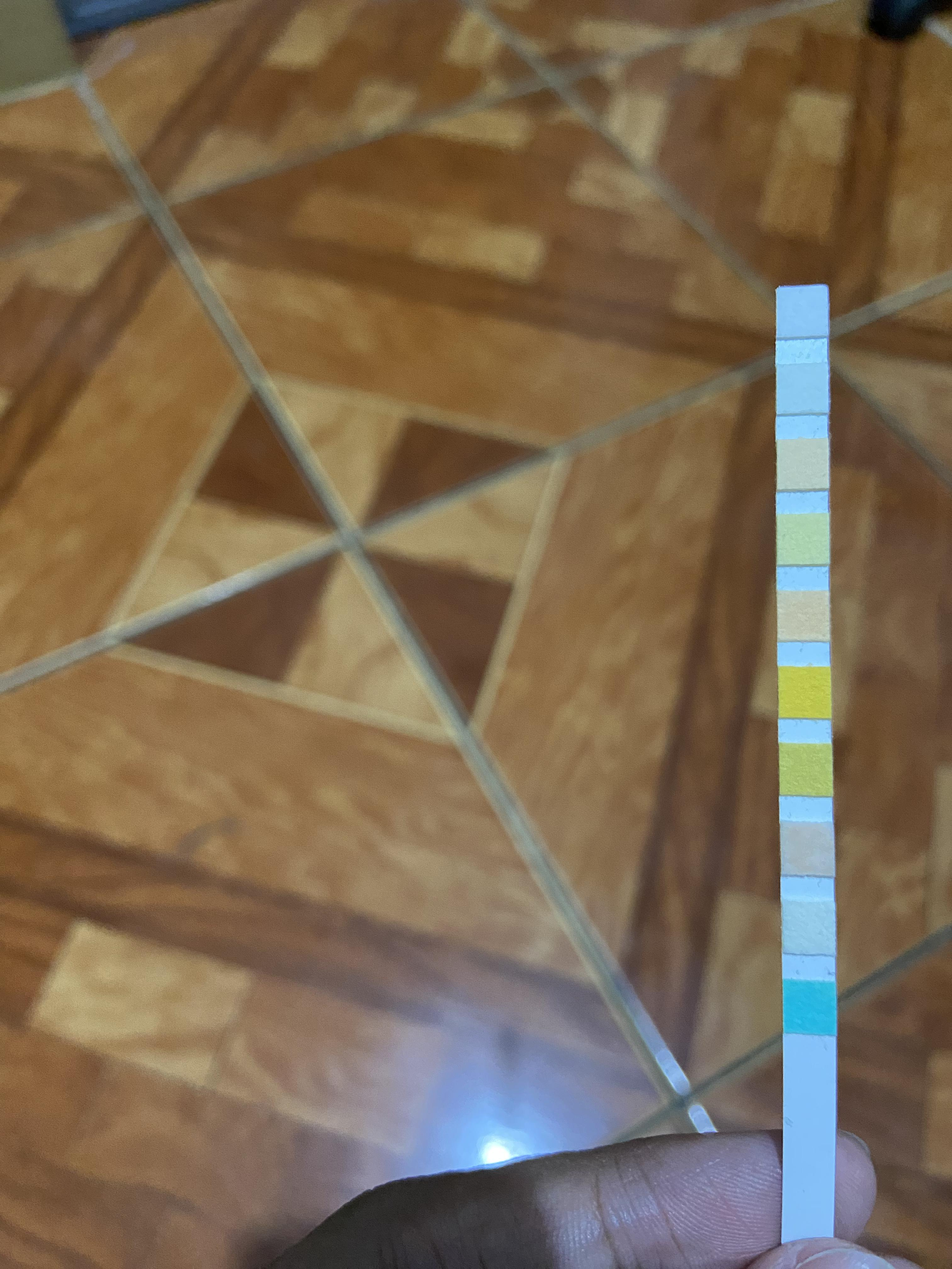Bilirubin: (783, 900, 835, 954)
Blood: (779, 667, 830, 717)
Glucose: (785, 980, 834, 1031)
Ketone: (782, 821, 833, 874)
Leukocytes: (777, 288, 827, 336)
Nitrite: (778, 365, 827, 414)
Protein: (778, 515, 829, 563)
SpGravity: (780, 743, 831, 795)
Urobilinogen: (778, 441, 827, 488)
pH: (779, 591, 829, 640)
strip: (775, 284, 836, 1235)
